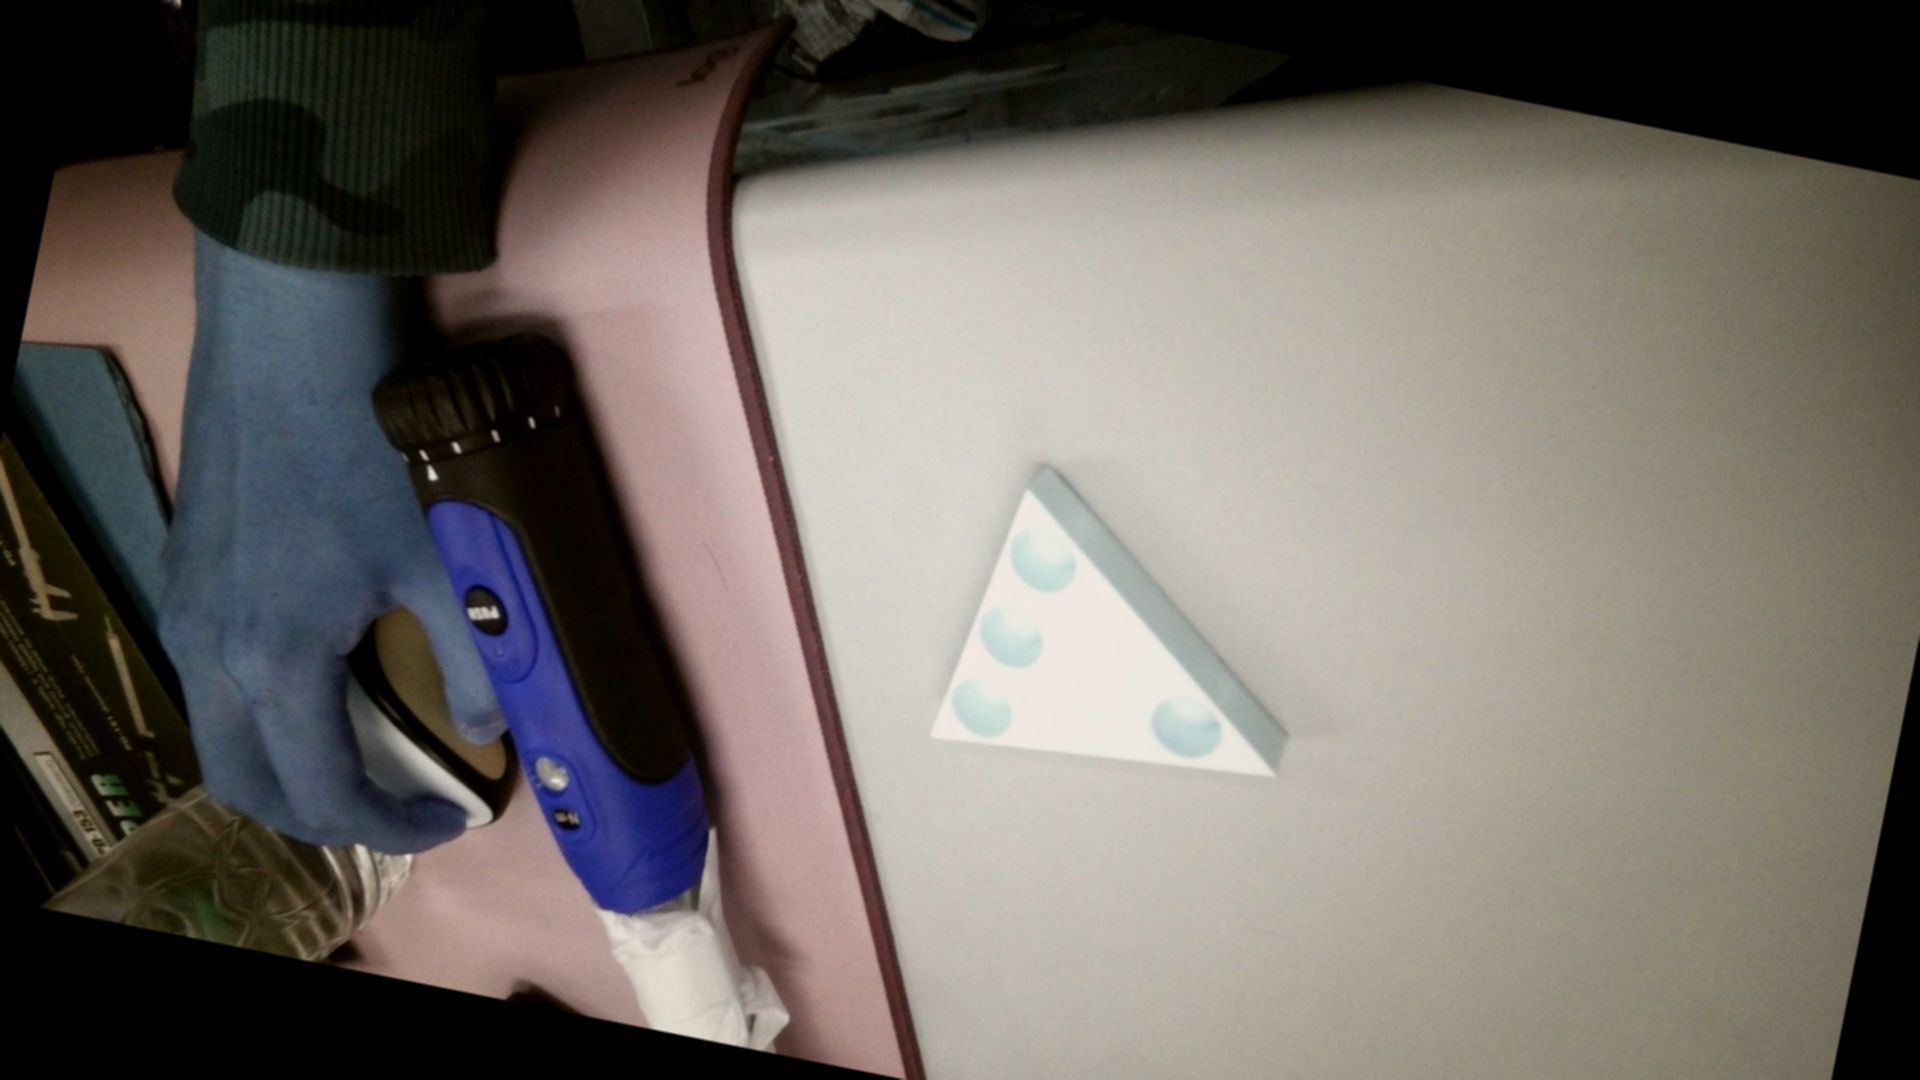hole: (1000, 516, 1088, 601), (971, 596, 1051, 676), (1147, 690, 1228, 764), (948, 675, 1014, 740)
obj: (923, 440, 1345, 823)
